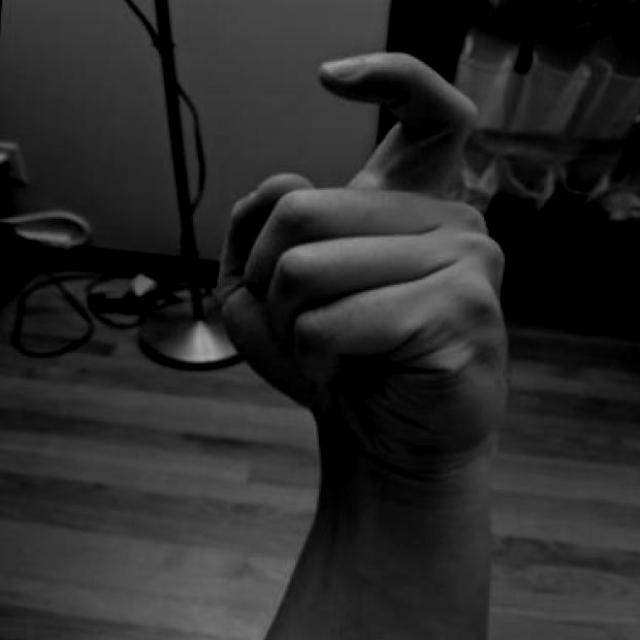X: (195, 35, 529, 495)
